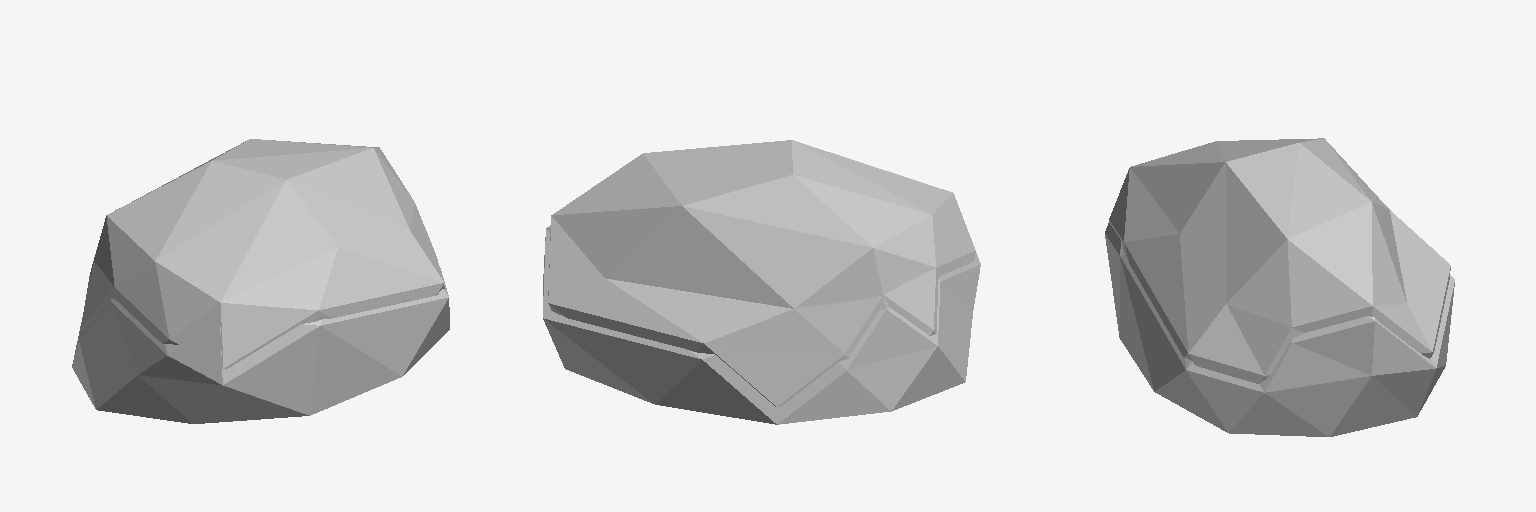
Rendered from IceRock2.obj.
The picture shows the model from 3 angles: view 1: azimuth 30°, elevation 25°; view 2: azimuth 150°, elevation 25°; view 3: azimuth 270°, elevation 25°; orthographic projection.
Visible parts, largest first — view 1: Icosphere.003; view 2: Icosphere.003; view 3: Icosphere.003.
Boxes of the visible parts, x1=… form: Icosphere.003: x1=72, y1=139, x2=449, y2=423; Icosphere.003: x1=543, y1=140, x2=980, y2=424; Icosphere.003: x1=1105, y1=138, x2=1454, y2=436.
Bounding box in the file's own units: 0.6756 × 0.3489 × 0.5736.